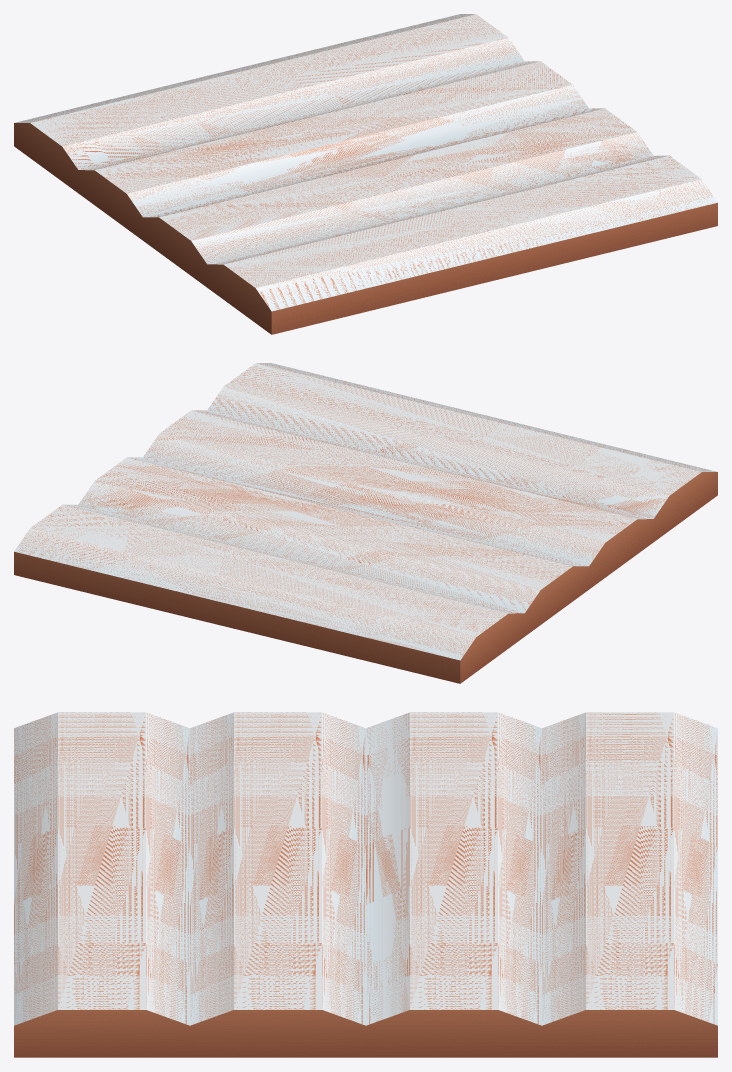
The model's file is floor-wood-snow.glb.
3 renders of one model, top to bottom at view 1: azimuth 30°, elevation 25°; view 2: azimuth 150°, elevation 25°; view 3: azimuth 270°, elevation 25°, orthographic. The views are drawn at different scales.
Visible parts, largest first — view 1: floor-wood-snow; view 2: floor-wood-snow; view 3: floor-wood-snow.
Part boxes in pixels (x1,y1,x2,y2): floor-wood-snow: (14,14,717,334); floor-wood-snow: (14,363,717,683); floor-wood-snow: (14,712,717,1057).
Size of the model in its own units: 3 by 0.225 by 3.
Materials: 1 (1 with a texture image).
